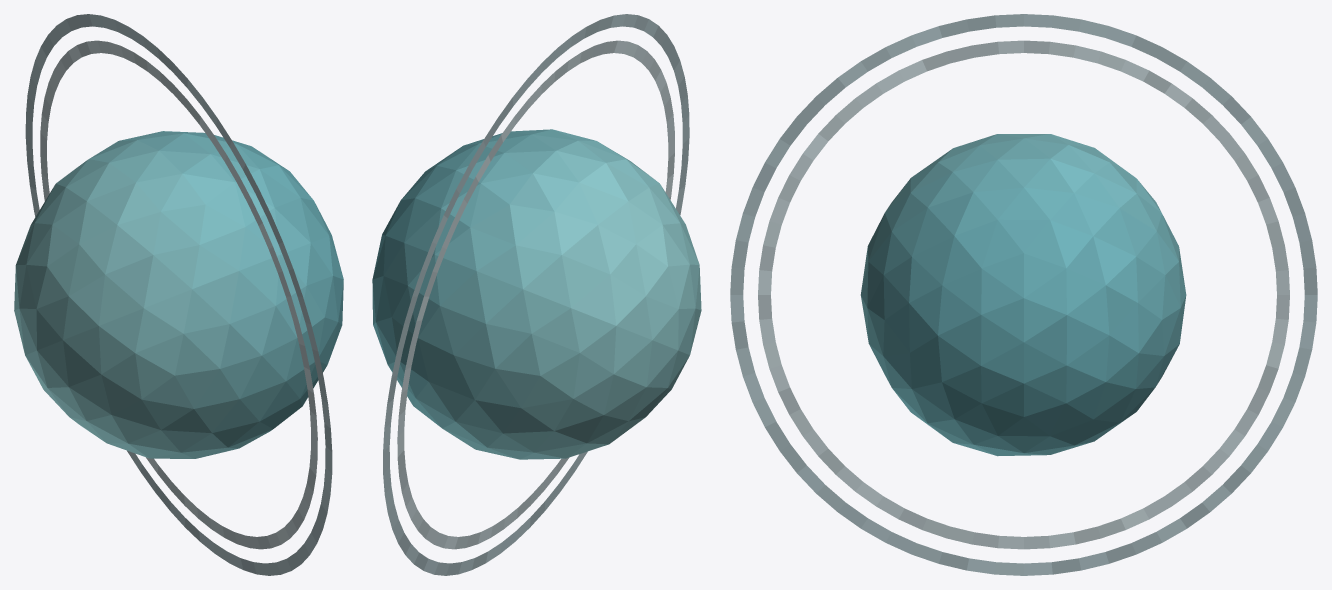
Rendered from uranus.glb.
The picture shows the model from 3 angles, left to right: view 1: azimuth 30°, elevation 25°; view 2: azimuth 150°, elevation 25°; view 3: azimuth 270°, elevation 25°; orthographic projection.
Parts seen in each view (by area): view 1: uranus_body, uranus_rings; view 2: uranus_body, uranus_rings; view 3: uranus_body, uranus_rings.
Part boxes in pixels (x1=…): uranus_body: x1=14, y1=131, x2=343, y2=458; uranus_rings: x1=25, y1=14, x2=332, y2=575; uranus_body: x1=372, y1=129, x2=701, y2=459; uranus_rings: x1=383, y1=14, x2=689, y2=575; uranus_body: x1=860, y1=134, x2=1186, y2=456; uranus_rings: x1=730, y1=14, x2=1317, y2=575.
Size of the model in its own units: 1.75 by 3.14 by 3.17.
